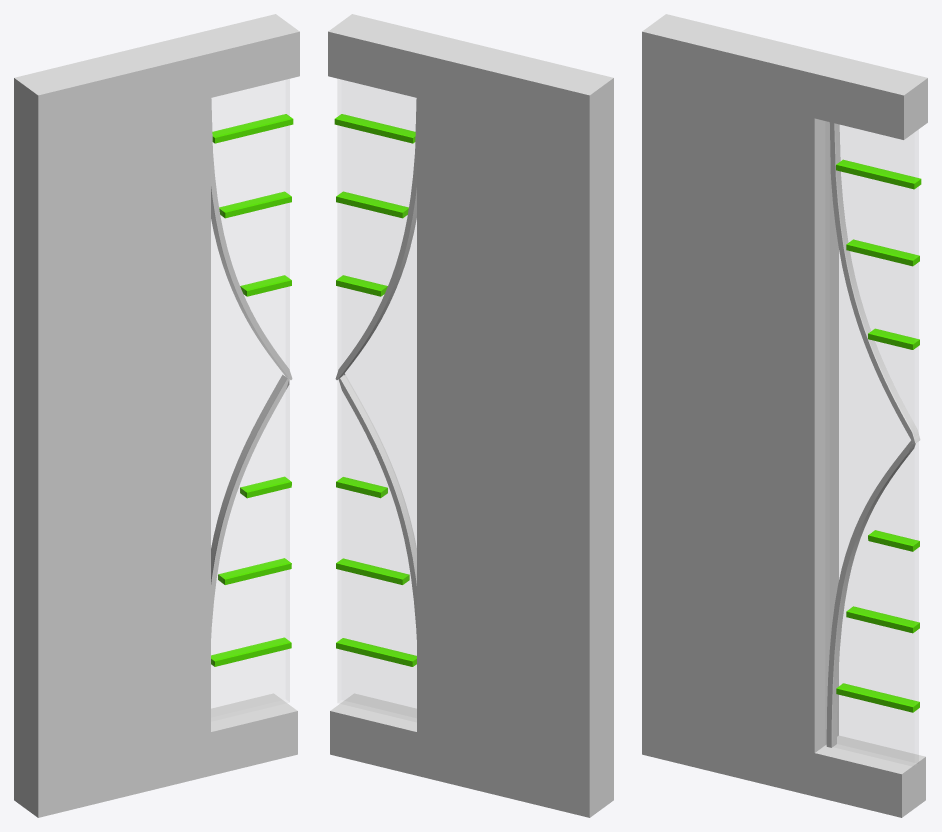
The model's file is Dooropen.fbx.
3 views of the same model, side by side, from view 1: azimuth 30°, elevation 25°; view 2: azimuth 150°, elevation 25°; view 3: azimuth 330°, elevation 25° (orthographic).
Visible parts, largest first — view 1: pCube6, pCube5, polySurface5, polySurface4, pasted__pCube4 (×2), pasted__pasted__pCube4 (×2), pCube4, pasted__pasted__pasted__pCube4; view 2: pCube6, pCube5, polySurface5, polySurface4, pasted__pCube4 (×2), pasted__pasted__pCube4 (×2), pCube4, pasted__pasted__pasted__pCube4; view 3: pCube6, pCube5, polySurface4, polySurface5, pasted__pCube4 (×2), pasted__pasted__pCube4 (×2), pCube4, pasted__pasted__pasted__pCube4.
Boxes of the visible parts, bbox=[...] form: pCube6: bbox=[14, 14, 299, 817]; pCube5: bbox=[211, 79, 289, 720]; polySurface5: bbox=[211, 374, 289, 637]; polySurface4: bbox=[211, 98, 292, 379]; pasted__pCube4 (×2): bbox=[212, 114, 293, 584]; pasted__pasted__pCube4 (×2): bbox=[211, 275, 291, 666]; pCube4: bbox=[219, 191, 291, 218]; pasted__pasted__pasted__pCube4: bbox=[240, 476, 291, 498]; pCube6: bbox=[328, 14, 613, 817]; pCube5: bbox=[338, 79, 416, 721]; polySurface5: bbox=[338, 373, 416, 639]; polySurface4: bbox=[335, 98, 416, 379]; pasted__pCube4 (×2): bbox=[334, 114, 415, 584]; pasted__pasted__pCube4 (×2): bbox=[336, 275, 416, 666]; pCube4: bbox=[336, 191, 408, 218]; pasted__pasted__pasted__pCube4: bbox=[336, 477, 387, 498]; pCube6: bbox=[642, 14, 927, 817]; pCube5: bbox=[826, 122, 918, 766]; polySurface4: bbox=[829, 122, 920, 444]; polySurface5: bbox=[826, 440, 915, 747]; pasted__pCube4 (×2): bbox=[836, 159, 921, 633]; pasted__pasted__pCube4 (×2): bbox=[836, 328, 919, 712]; pCube4: bbox=[846, 239, 919, 266]; pasted__pasted__pasted__pCube4: bbox=[868, 530, 919, 551].
Size of the model in its own units: 6.33 by 16.56 by 1.
4 materials, 3 textured.
